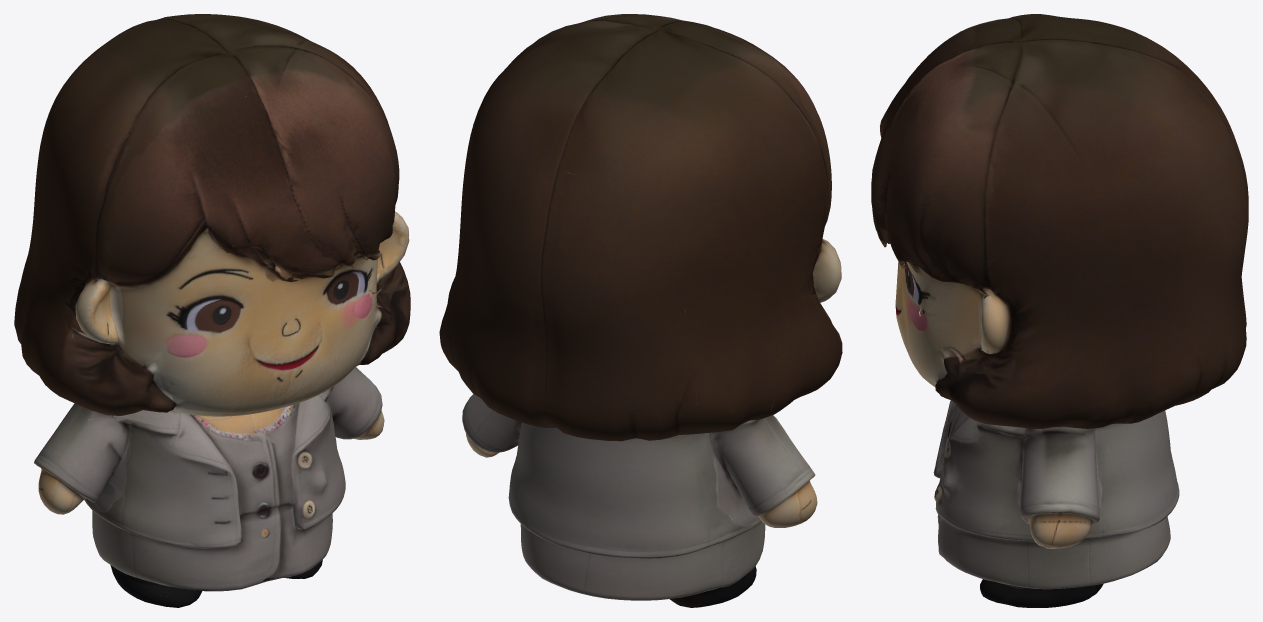
File: Plush_Professional_0709053537_texture.glb
3 renders of one model, left to right at view 1: azimuth 30°, elevation 25°; view 2: azimuth 150°, elevation 25°; view 3: azimuth 270°, elevation 25°, orthographic. The views are drawn at different scales.
Bounding box in the file's own units: 1.41 × 2 × 1.3.
1 material, 1 textured.
